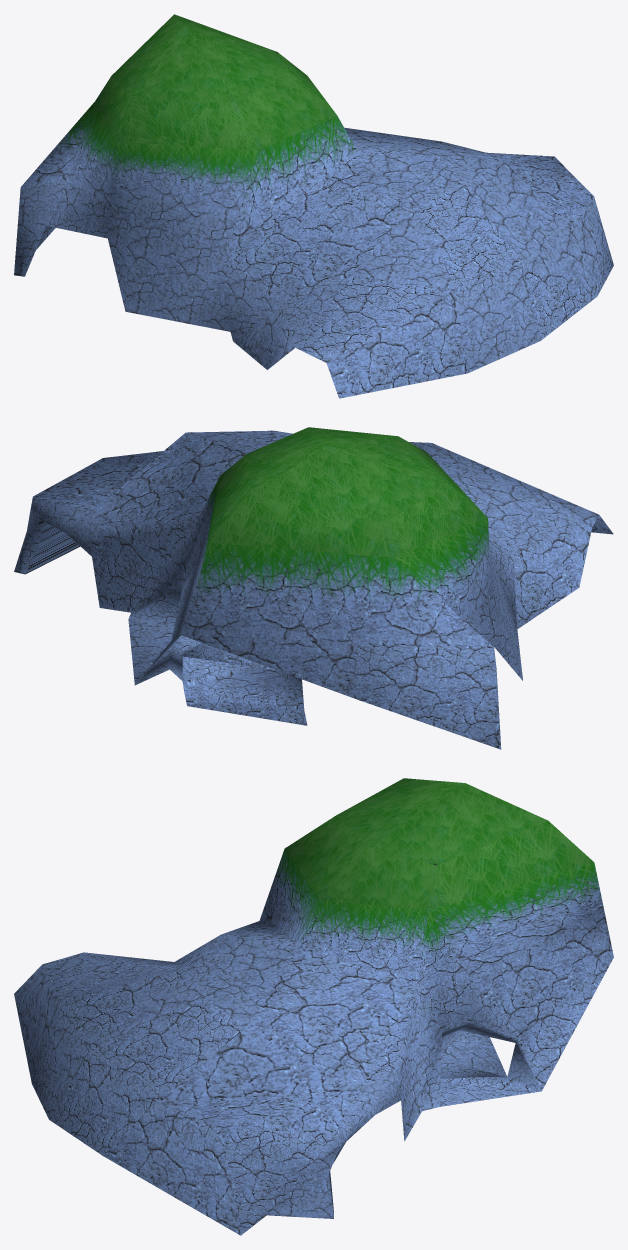
The model's file is track_chinese_env_terrain_03.FBX.
3 renders of one model, top to bottom at view 1: azimuth 30°, elevation 25°; view 2: azimuth 150°, elevation 25°; view 3: azimuth 270°, elevation 25°, orthographic. The views are drawn at different scales.
Parts seen in each view (by area): view 1: track_chinese_env_terrain_03; view 2: track_chinese_env_terrain_03; view 3: track_chinese_env_terrain_03.
Boxes of the visible parts, bbox=[...] form: track_chinese_env_terrain_03: bbox=[14, 14, 613, 398]; track_chinese_env_terrain_03: bbox=[14, 427, 613, 749]; track_chinese_env_terrain_03: bbox=[14, 778, 613, 1235].
Bounding box in the file's own units: 254 × 121 × 241.
